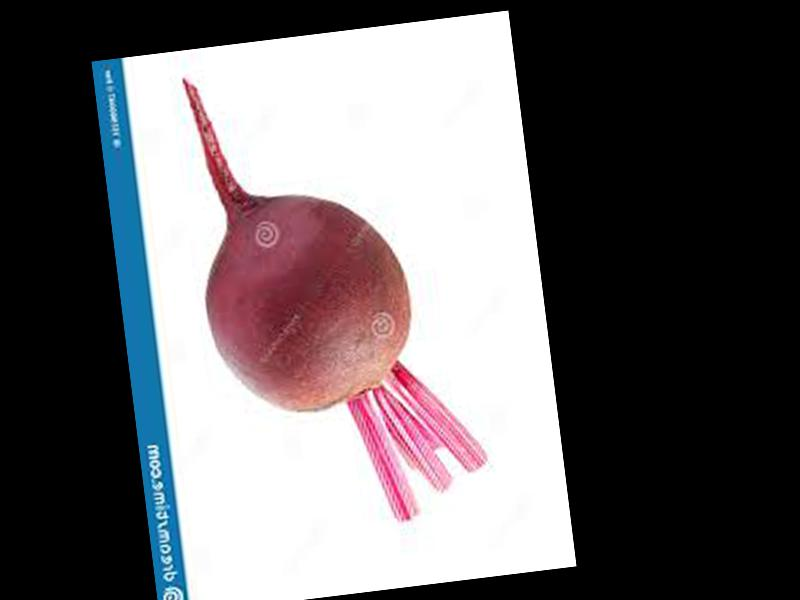Beet: (182, 51, 490, 539)
